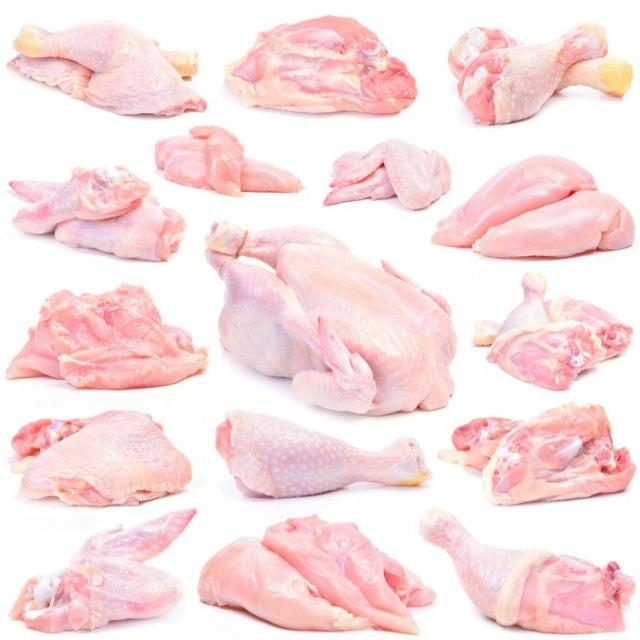chicken: (208, 222, 452, 412), (202, 520, 434, 635), (424, 513, 634, 634), (13, 510, 190, 632), (10, 286, 207, 389), (7, 21, 209, 120), (228, 15, 420, 118), (446, 21, 634, 126), (436, 156, 631, 256), (469, 275, 630, 391), (453, 403, 634, 504), (211, 414, 428, 498), (9, 165, 189, 263), (14, 409, 189, 507), (154, 126, 303, 202), (327, 138, 452, 212)
